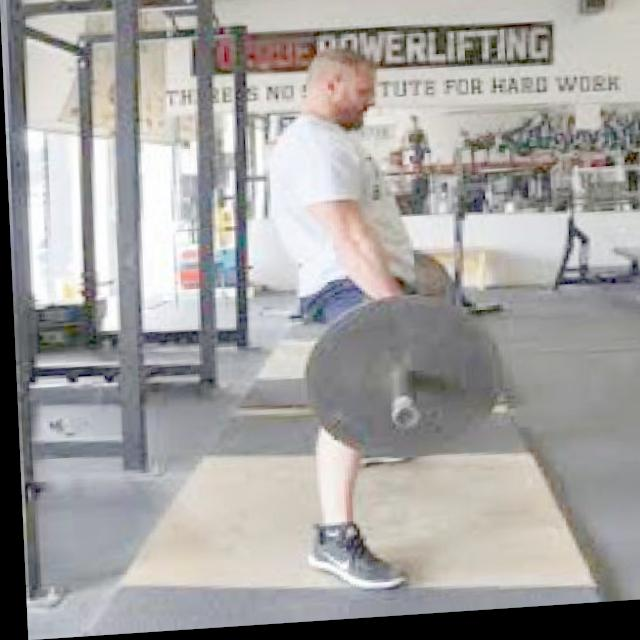barbell: (295, 293, 507, 477)
